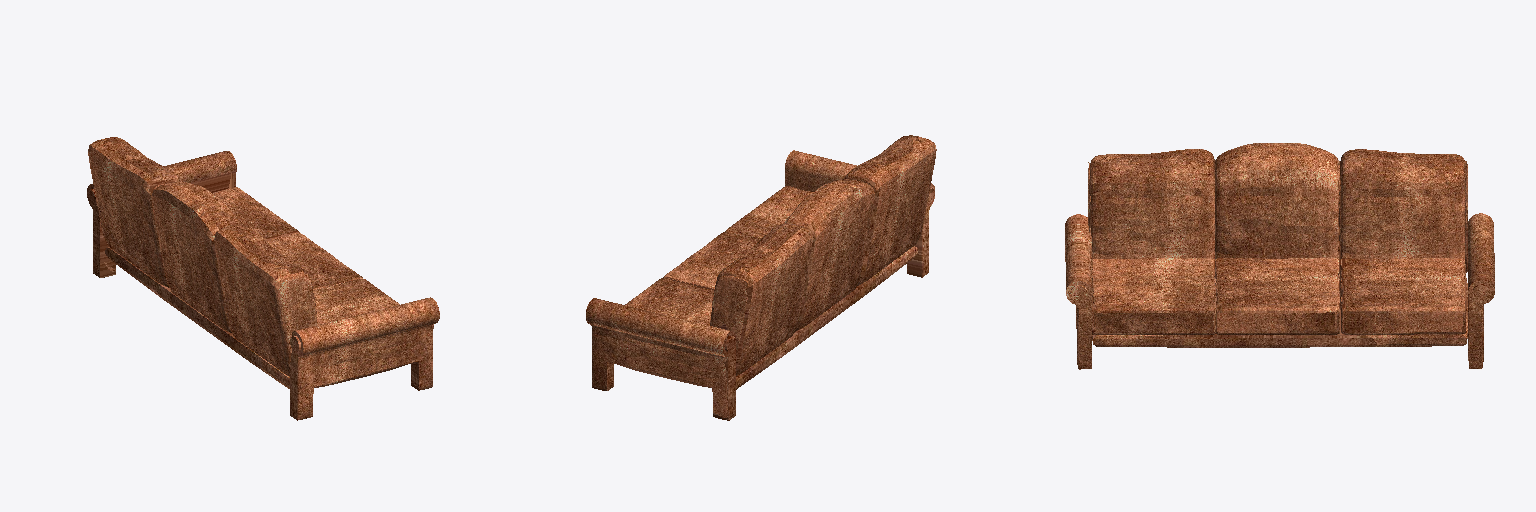
3 renders of one model, left to right at view 1: azimuth 30°, elevation 25°; view 2: azimuth 150°, elevation 25°; view 3: azimuth 270°, elevation 25°, orthographic.
Parts seen in each view (by area): view 1: GREEN_COUCH_Cube.019; view 2: GREEN_COUCH_Cube.019; view 3: GREEN_COUCH_Cube.019.
Part boxes in pixels (x1,y1,x2,y2): GREEN_COUCH_Cube.019: (87, 137, 439, 420); GREEN_COUCH_Cube.019: (586, 135, 936, 420); GREEN_COUCH_Cube.019: (1065, 143, 1494, 369).
Size of the model in its own units: 2.5 by 2.31 by 5.9.
1 materials, 1 textured.